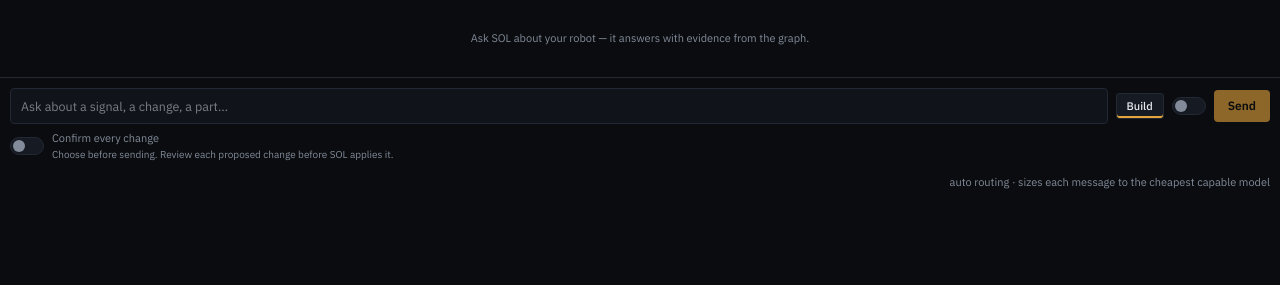
Scenario: SolChat settled rows (S2 rendering) › reserves the citations height only while the reply is streaming
The image size is (1280, 285).
Type "why?" into the dropdown with placeholder "Ask about a signal, a change, a part…".
click(559, 106); type("why?")  # box top-left (10, 88), bottom-right (1108, 124)
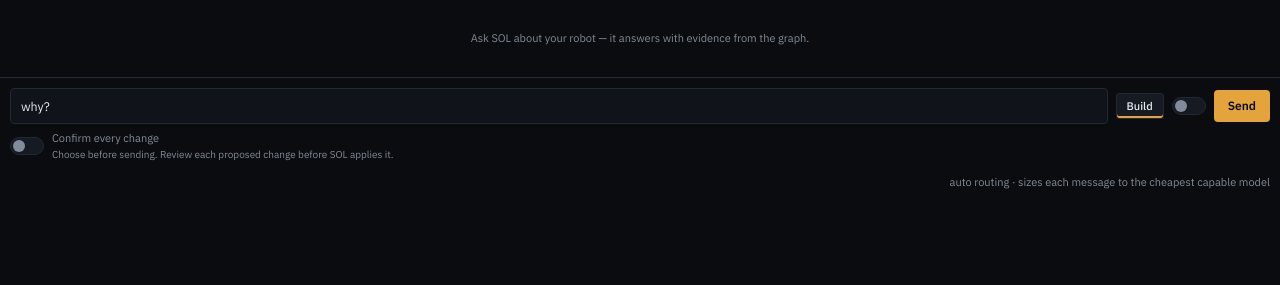
Click the button "Send".
click(1242, 106)  # box top-left (1214, 90), bottom-right (1270, 122)
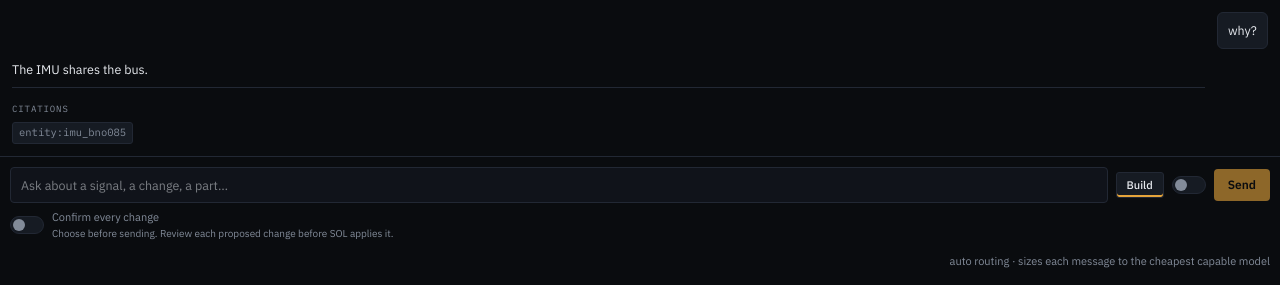
expect the element with test id "citations-region" is shown: met, box top-left (12, 87), bottom-right (1205, 144)
